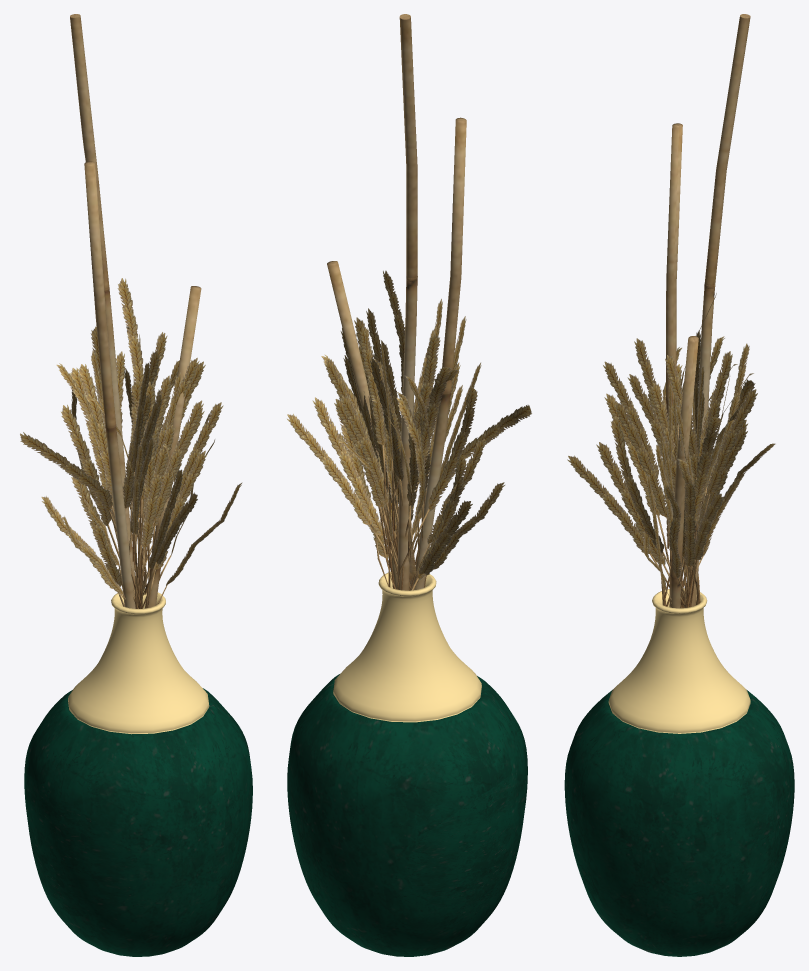
File: decorative-vase.glb
3 views of the same model, side by side, from view 1: azimuth 30°, elevation 25°; view 2: azimuth 150°, elevation 25°; view 3: azimuth 270°, elevation 25° (orthographic). The views are drawn at different scales.
Parts seen in each view (by area): view 1: Vase1; view 2: Vase1; view 3: Vase1.
Boxes of the visible parts, x1,y1,x2,y2 form: Vase1: [20, 14, 252, 956]; Vase1: [287, 14, 531, 956]; Vase1: [564, 14, 794, 956].
Size of the model in its own units: 0.3597 by 1.43 by 0.3289.
Materials: 4 (4 with a texture image).
